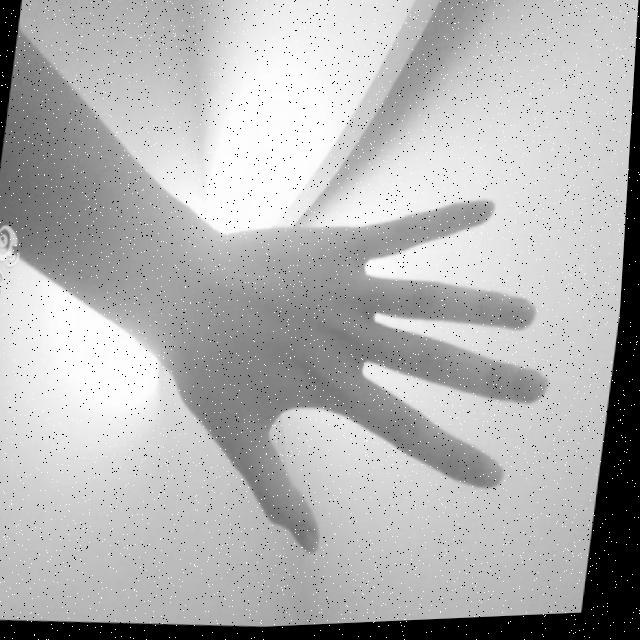hand: (170, 178, 576, 577)
